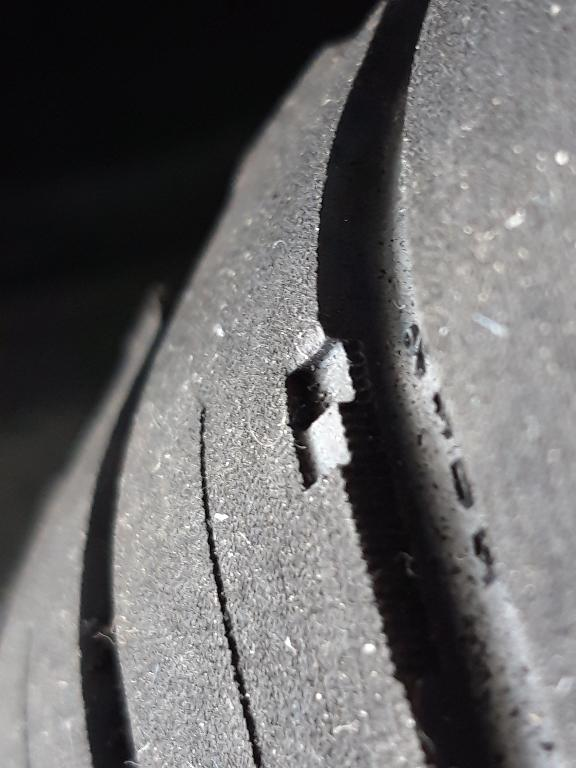temoin:25: (275, 331, 405, 502)
